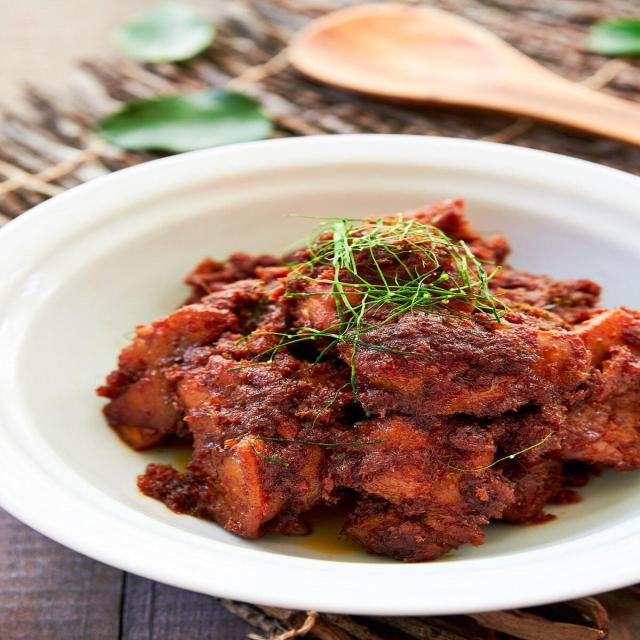Rendang: (100, 187, 640, 584)
